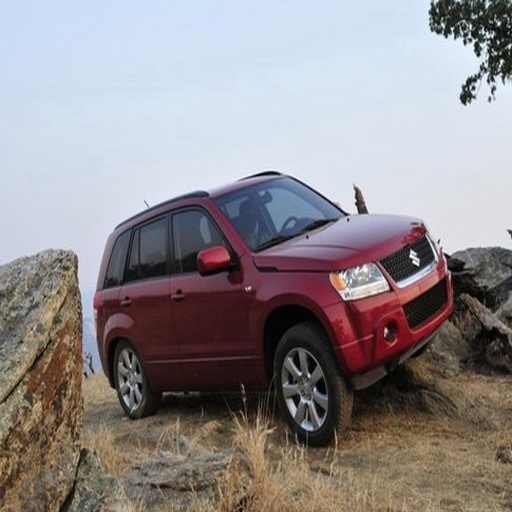front_bumper: (341, 248, 450, 369)
front_right_door: (173, 204, 252, 384)
front_right_light: (330, 263, 389, 299)
